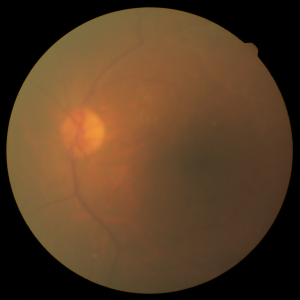cataract: (41, 89, 243, 204)
